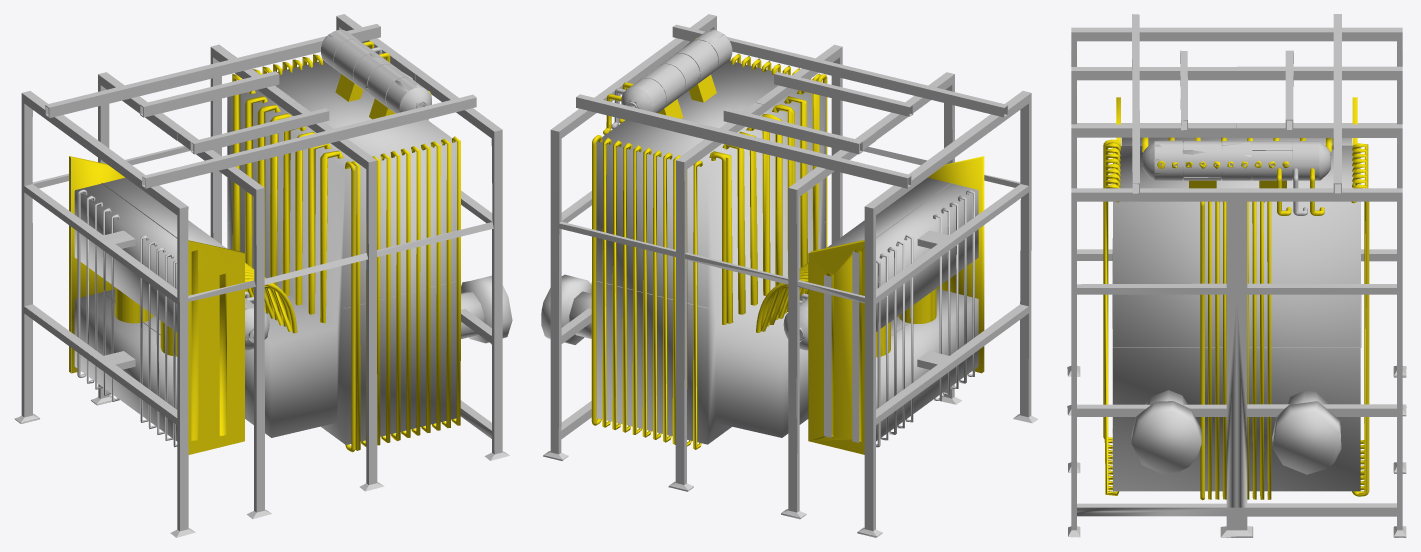
The model's file is Largepr.fbx.
3 renders of one model, left to right at view 1: azimuth 30°, elevation 25°; view 2: azimuth 150°, elevation 25°; view 3: azimuth 270°, elevation 25°, orthographic. The views are drawn at different scales.
Visible parts, largest first — view 1: Largepr_LOD0; view 2: Largepr_LOD0; view 3: Largepr_LOD0.
Part boxes in pixels (x1,y1,x2,y2): Largepr_LOD0: (14,14,512,537); Largepr_LOD0: (541,14,1038,537); Largepr_LOD0: (1067,14,1406,537).
Size of what is drawn, in the model's own units: 8415 by 7707 by 6432.
